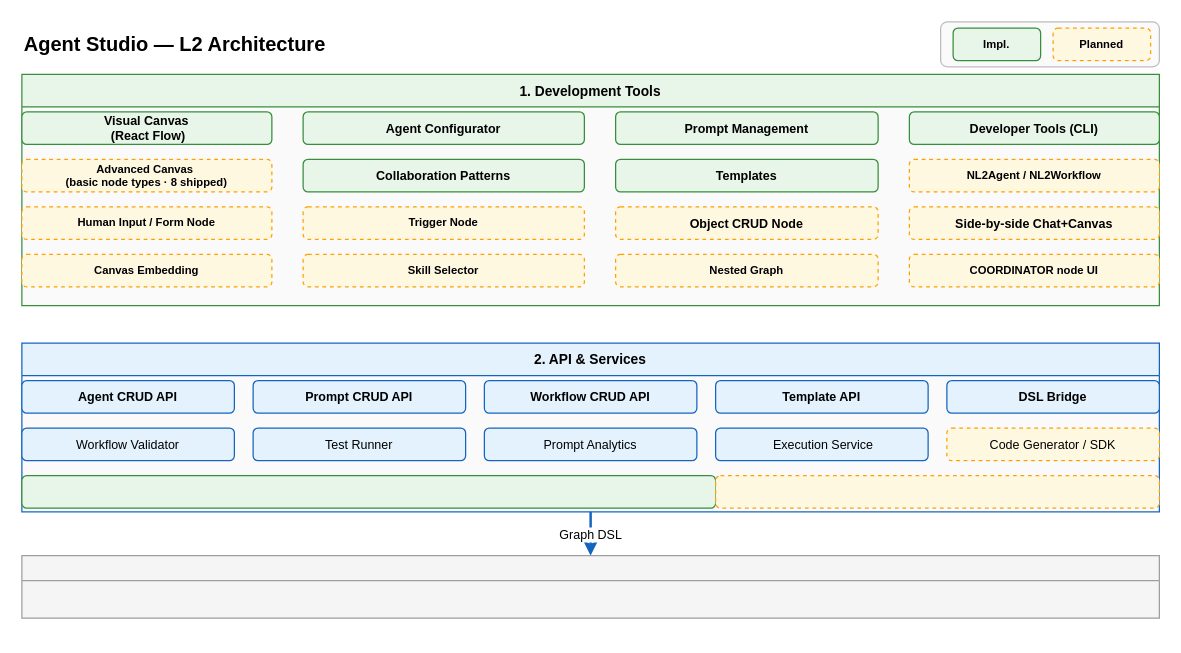
Some shapes in this 1181 by 653 pixel diagram are drawn without their labels. Here are the shapes that lost their labels. From the top down, the centre of each, then its label:
At point (368, 491): "Built-in Evaluators".
At point (936, 491): "Evaluation Suite".
At point (590, 586): "⤵ To Agent Engine — Graph DSL (Compiler / Pregel Runtime / Channels)".
